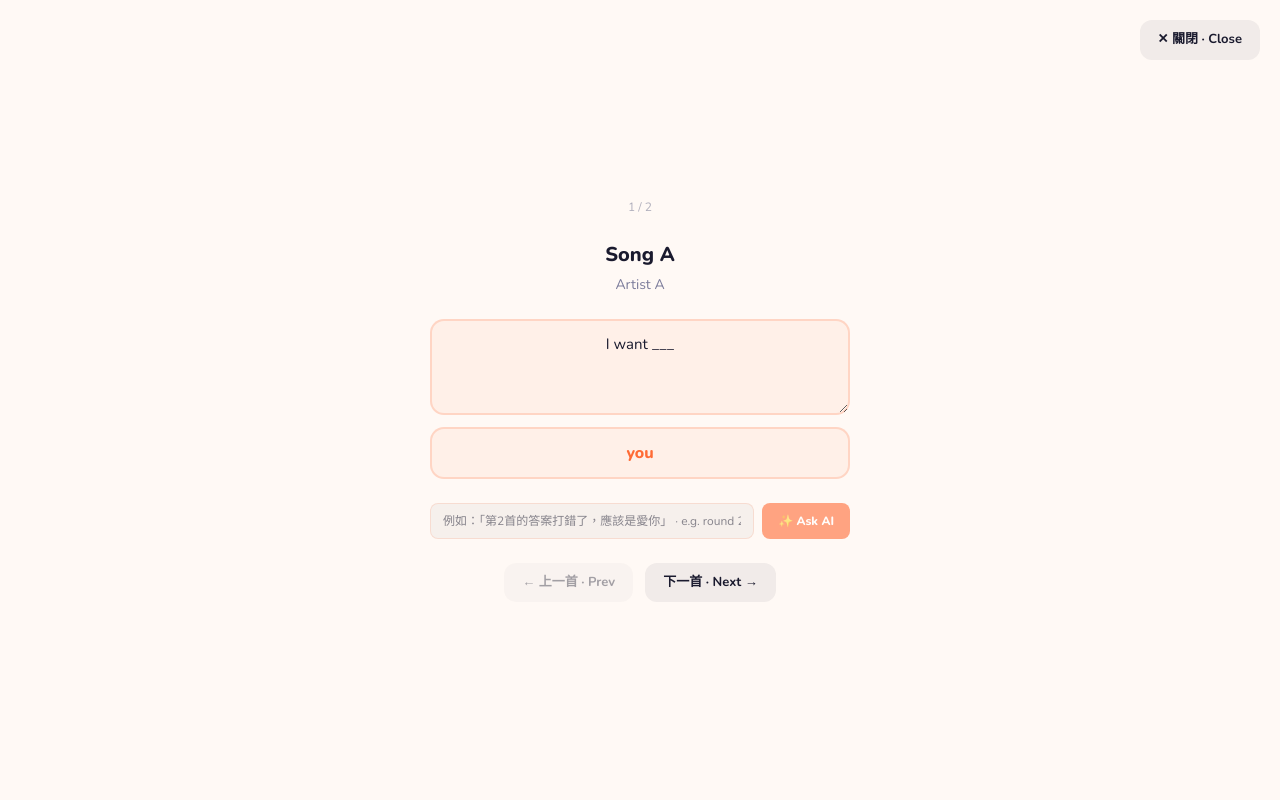
Scenario: LyricRoundItemEditor (T6, docs/designs/full-page-focus-editor.md) › song with no AI-generated data (regression) › still renders editable fields, not a dead-end message
The image size is (1280, 800).
What coordinates should you click on to do the following:
click the button "下一首 · Next →"
I would click on:
 (710, 582)
Its box is [645,562,776,602].
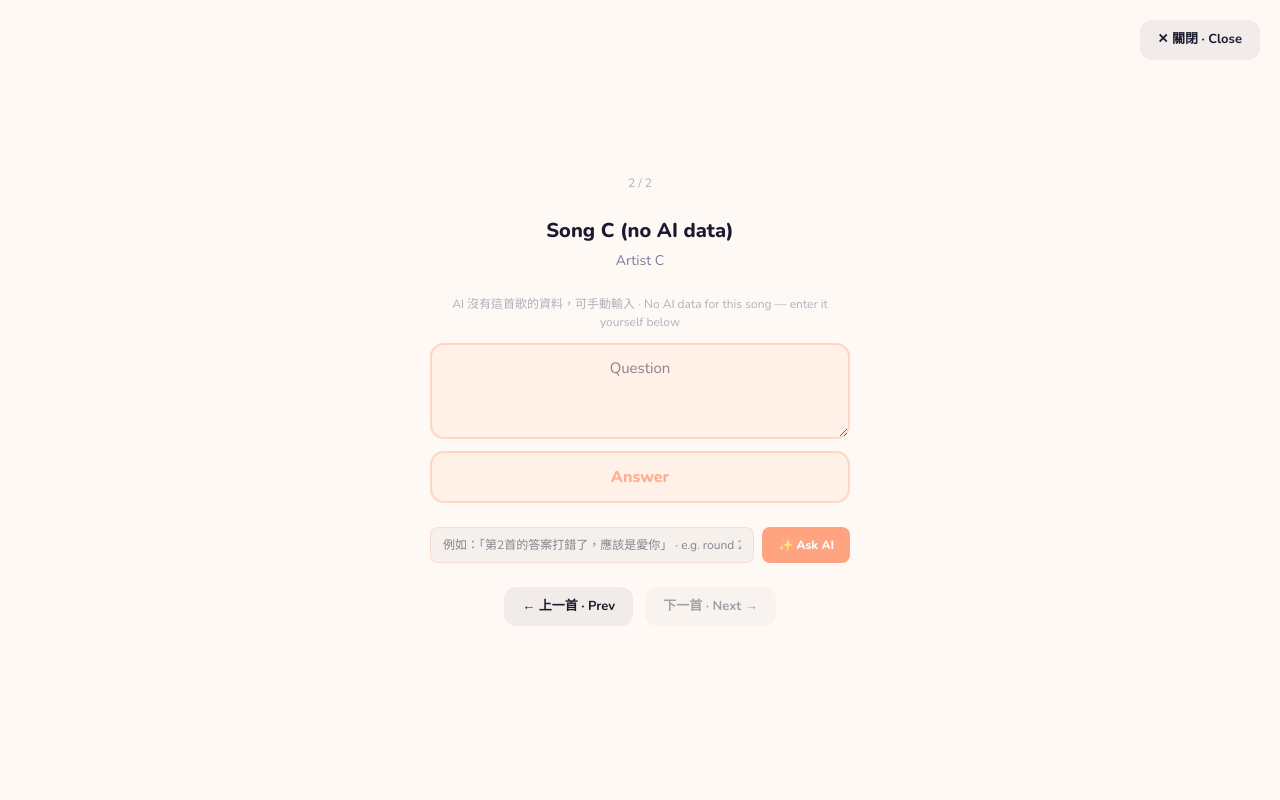
expect the text box with placeholder "Question" is shown: met, box [430,343,850,438]
expect the text "Song C (no AI data)" is shown: met, box [546,216,734,246]
